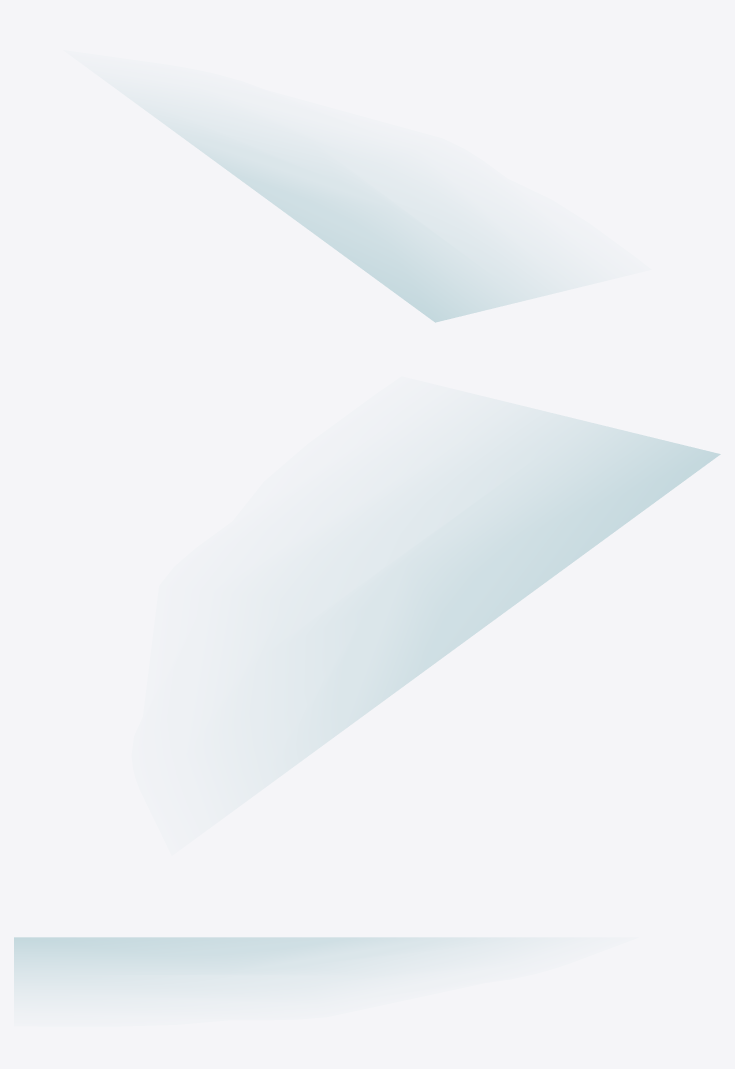
The picture shows the model from 3 angles, top to bottom: view 1: azimuth 30°, elevation 25°; view 2: azimuth 150°, elevation 25°; view 3: azimuth 270°, elevation 25°; orthographic projection. The views are drawn at different scales.
Parts seen in each view (by area): view 1: city; view 2: city; view 3: city.
Part boxes in pixels (x1,y1,x2,y2): city: (148, 111, 556, 322); city: (290, 410, 720, 766); city: (14, 937, 497, 987).
Size of the model in its own units: 180 by 0 by 460.
